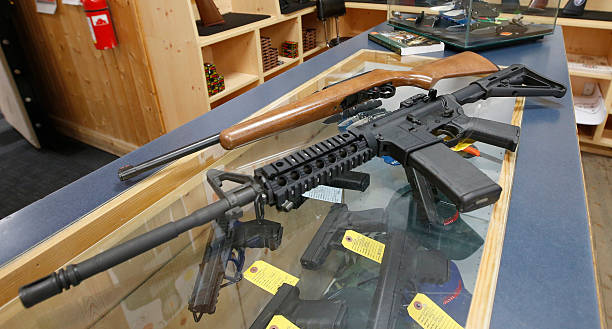rifle: (6, 66, 573, 329)
